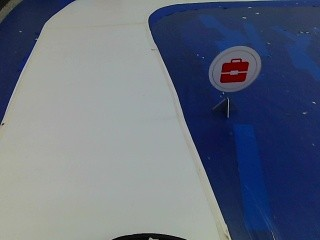company: (210, 47, 258, 95)
